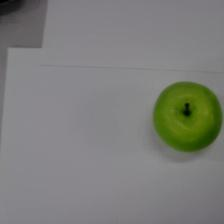green: (153, 82, 222, 152)
